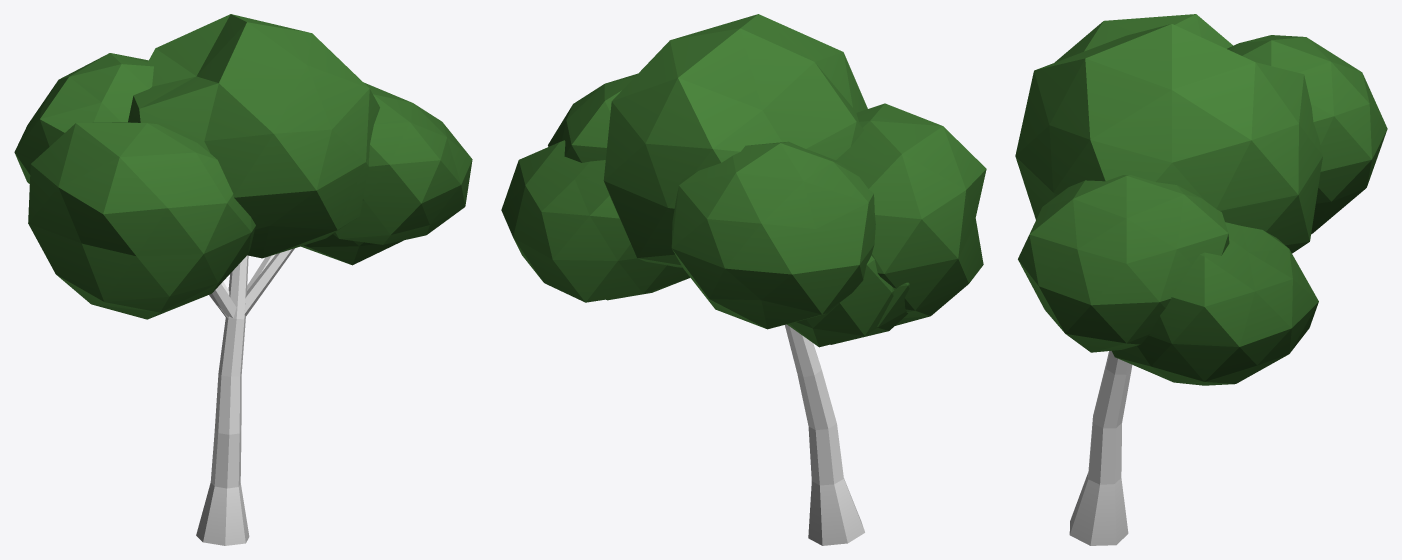
The model's file is tree_b.glb.
3 views of the same model, side by side, from view 1: azimuth 30°, elevation 25°; view 2: azimuth 150°, elevation 25°; view 3: azimuth 270°, elevation 25° (orthographic). The views are drawn at different scales.
Parts seen in each view (by area): view 1: Canopy_deco, Trunk; view 2: Canopy_deco, Trunk; view 3: Canopy_deco, Trunk.
Boxes of the visible parts, <box> form: Canopy_deco: <box>14,14,472,319</box>; Trunk: <box>196,248,294,545</box>; Canopy_deco: <box>501,14,986,347</box>; Trunk: <box>785,324,864,545</box>; Canopy_deco: <box>1015,14,1387,385</box>; Trunk: <box>1069,351,1132,545</box>.
Size of the model in its own units: 7.57 by 8.66 by 5.39.
